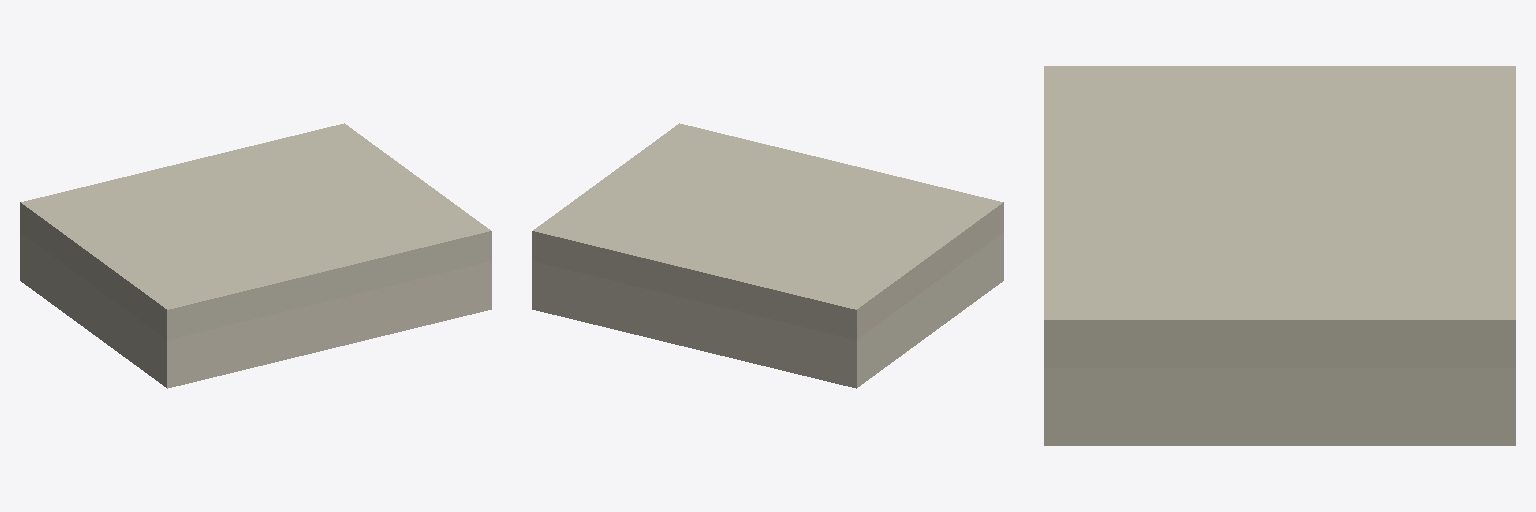
The robot description file, URDF, robot "old_laptop":
<robot name="old_laptop">
  <link name="base_link">
    <inertial>
      <origin xyz="0 0 0" rpy="0 0 0"/>
      <mass value="2.0"/>
      <inertia ixx="0.00833" ixy="0.0" ixz="0.0" iyy="0.01333" iyz="0.0" izz="0.02113"/>
    </inertial>
    <visual>
      <origin xyz="0 0 0" rpy="0 0 0"/>
      <geometry>
        <box size="0.28 0.22 0.04"/>
      </geometry>
      <material name="beige">
        <color rgba="0.82 0.80 0.74 1.0"/>
      </material>
    </visual>
    <collision>
      <origin xyz="0 0 0" rpy="0 0 0"/>
      <geometry>
        <box size="0.28 0.22 0.04"/>
      </geometry>
    </collision>
  </link>

  <link name="lid_link">
    <inertial>
      <origin xyz="0 0.11 0.0125" rpy="0 0 0"/>
      <mass value="0.8"/>
      <inertia ixx="0.00327" ixy="0.0" ixz="0.0" iyy="0.00527" iyz="0.0" izz="0.00845"/>
    </inertial>
    <visual>
      <origin xyz="0 0.11 0.0125" rpy="0 0 0"/>
      <geometry>
        <box size="0.28 0.22 0.025"/>
      </geometry>
      <material name="beige_dark">
        <color rgba="0.80 0.78 0.72 1.0"/>
      </material>
    </visual>
    <collision>
      <origin xyz="0 0.11 0.0125" rpy="0 0 0"/>
      <geometry>
        <box size="0.28 0.22 0.025"/>
      </geometry>
    </collision>
  </link>

  <joint name="lid_hinge" type="revolute">
    <parent link="base_link"/>
    <child link="lid_link"/>
    <origin xyz="0 -0.11 0.02" rpy="0 0 0"/>
    <axis xyz="1 0 0"/>
    <limit lower="0.0" upper="1.85" effort="5.0" velocity="2.0"/>
    <dynamics damping="0.1" friction="0.2"/>
  </joint>
</robot>

--- What the picture shows (computed from the rendered views, not written in the file) ---
The picture shows the robot from 3 angles, left to right: view 1: azimuth 30°, elevation 25°; view 2: azimuth 150°, elevation 25°; view 3: azimuth 270°, elevation 25°; orthographic projection.
Model old_laptop with 2 links and 1 joints (1 revolute), rooted at base_link, posed every joint at zero.
Visible links, largest first — view 1: lid_link, base_link; view 2: lid_link, base_link; view 3: lid_link, base_link.
Link boxes in pixels (x1,y1,x2,y2): lid_link: [20, 123, 491, 339]; base_link: [20, 233, 491, 388]; lid_link: [532, 123, 1003, 339]; base_link: [532, 233, 1003, 388]; lid_link: [1044, 66, 1515, 367]; base_link: [1044, 368, 1515, 445].
Bounding box of the posed robot: 0.28 × 0.22 × 0.065 m (x, y, z).
Geometry: primitives only (box / cylinder / sphere), no mesh files.
